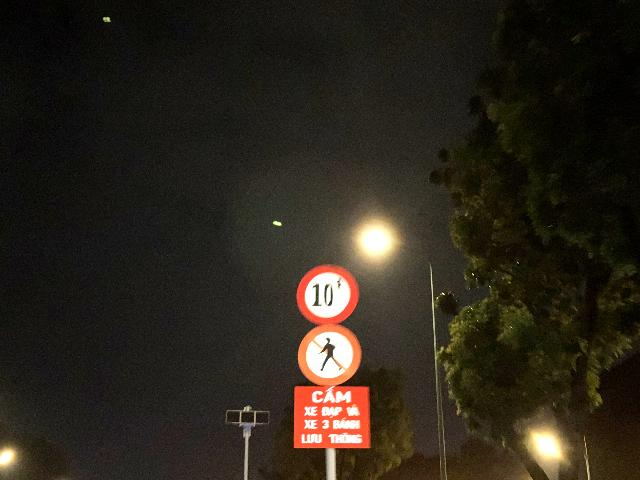cam-nguoi-di-bo: (297, 324, 362, 386)
han-che-trong-luong-xe: (295, 264, 358, 324)
